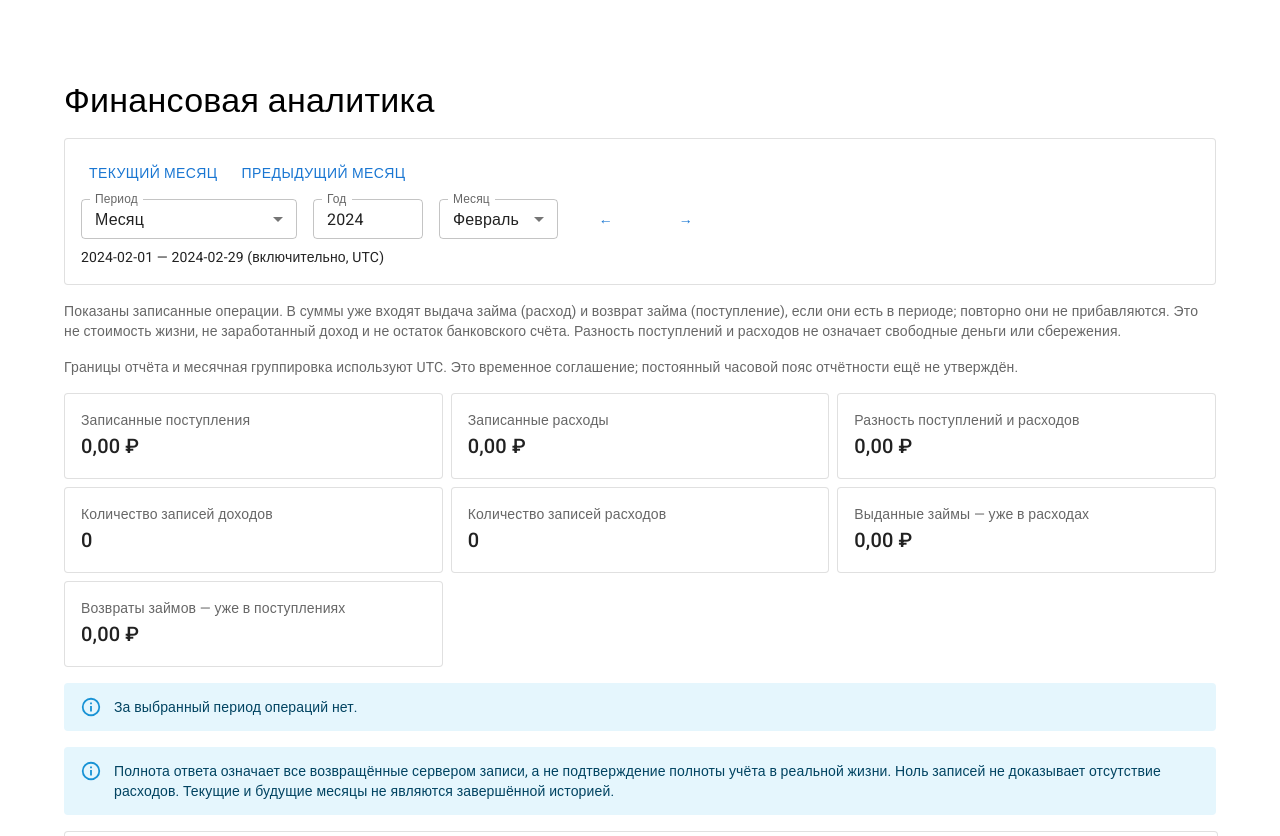
Test: read-only AnalyticsPage with mocked RTK Query transport › handles calendar domain boundaries for quarter without an arbitrary 2020 minimum
The image size is (1280, 836).
Expected: the text "Записанные поступления" is shown, [81,412,250,428]
Select "Январь" in the dropdown labelled "Месяц" at [498, 220], box [439,200,558,240]
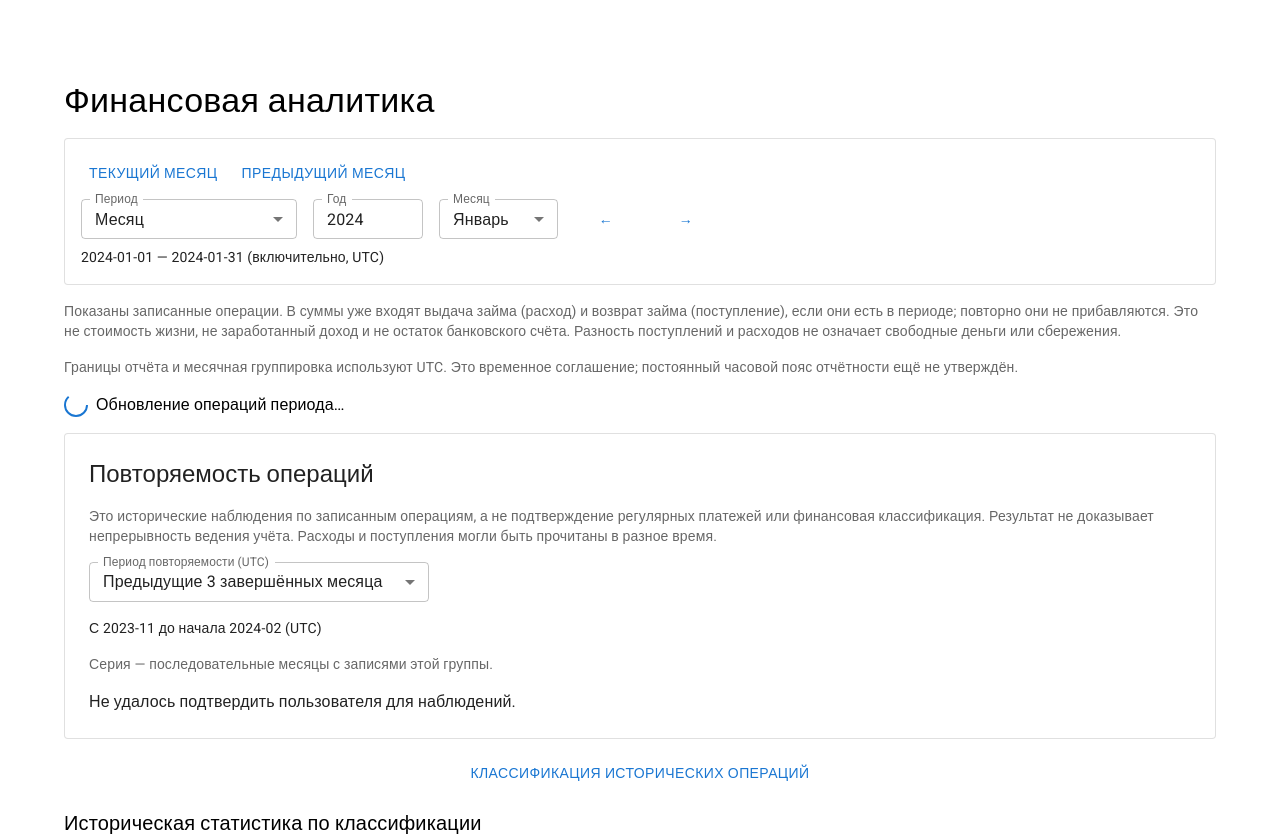
Select "Квартал" in the dropdown labelled "Период" at [189, 220], box [81,200,297,240]
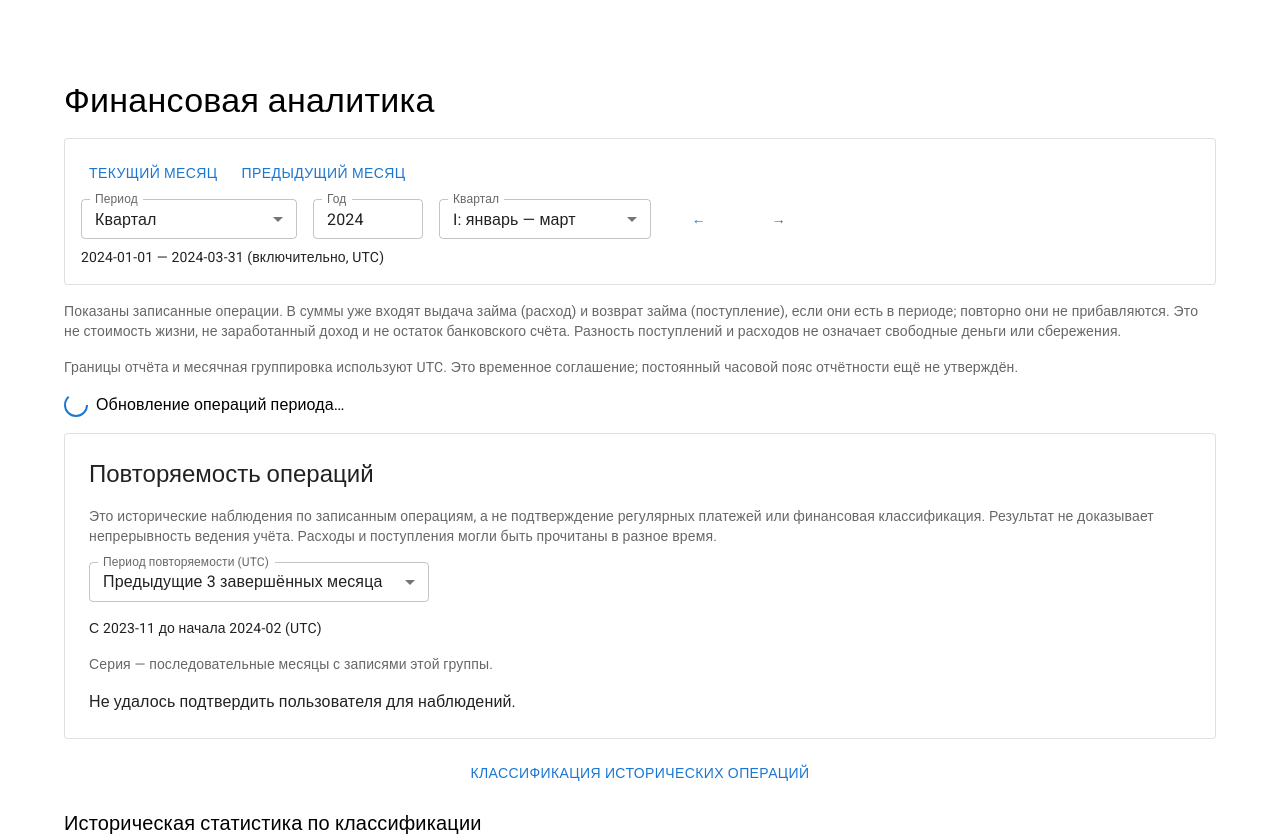
Replace the text in the number field labelled "Год" with "1" at [368, 220], box [313,200,423,240]
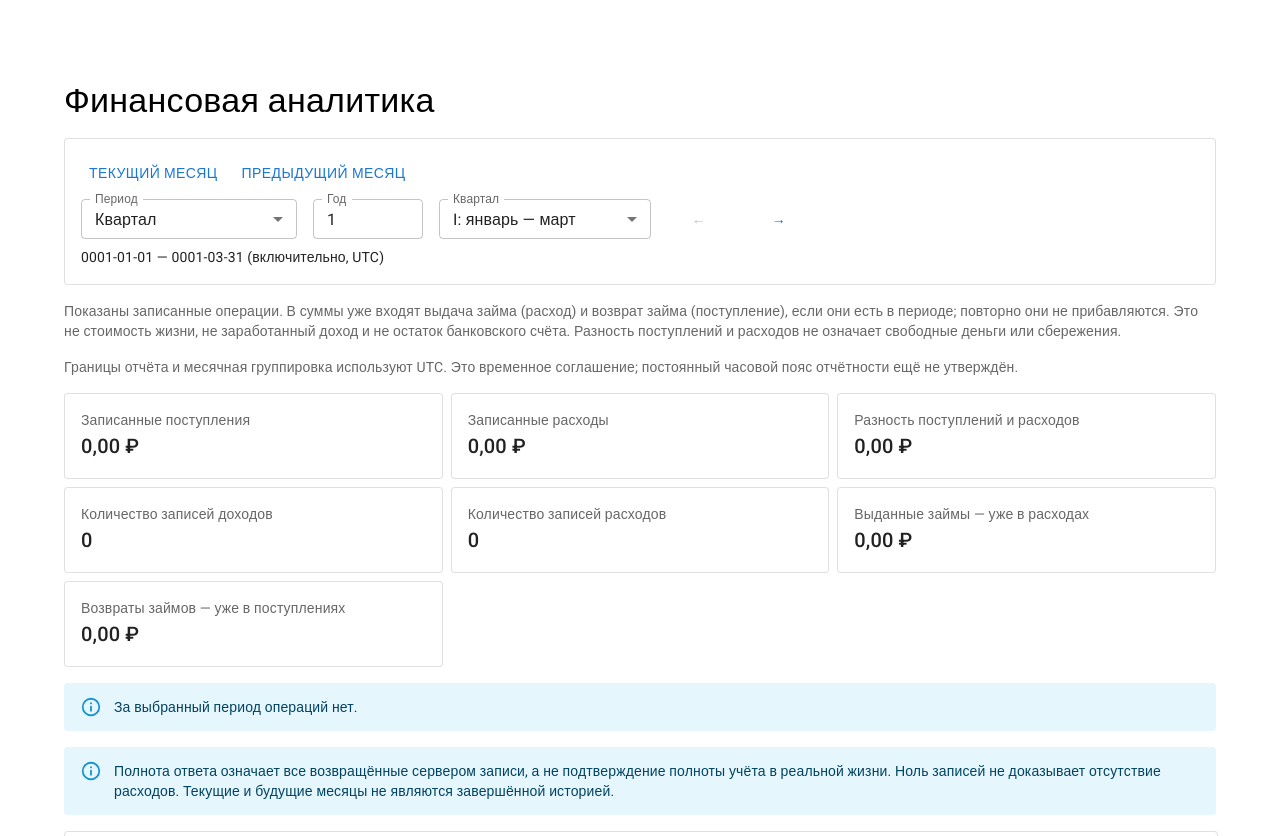
Expected: the button named "Предыдущий календарный период" is disabled, [667,200,731,240]
Now the text "Записанные поступления" is shown, box [81,412,250,428]
Now the text "0001-01-01 — 0001-03-31 (включительно, UTC)" is shown, box [81,250,384,266]
Replace the text in the number field labelled "Год" with "9999" at [368, 220], box [313,200,423,240]
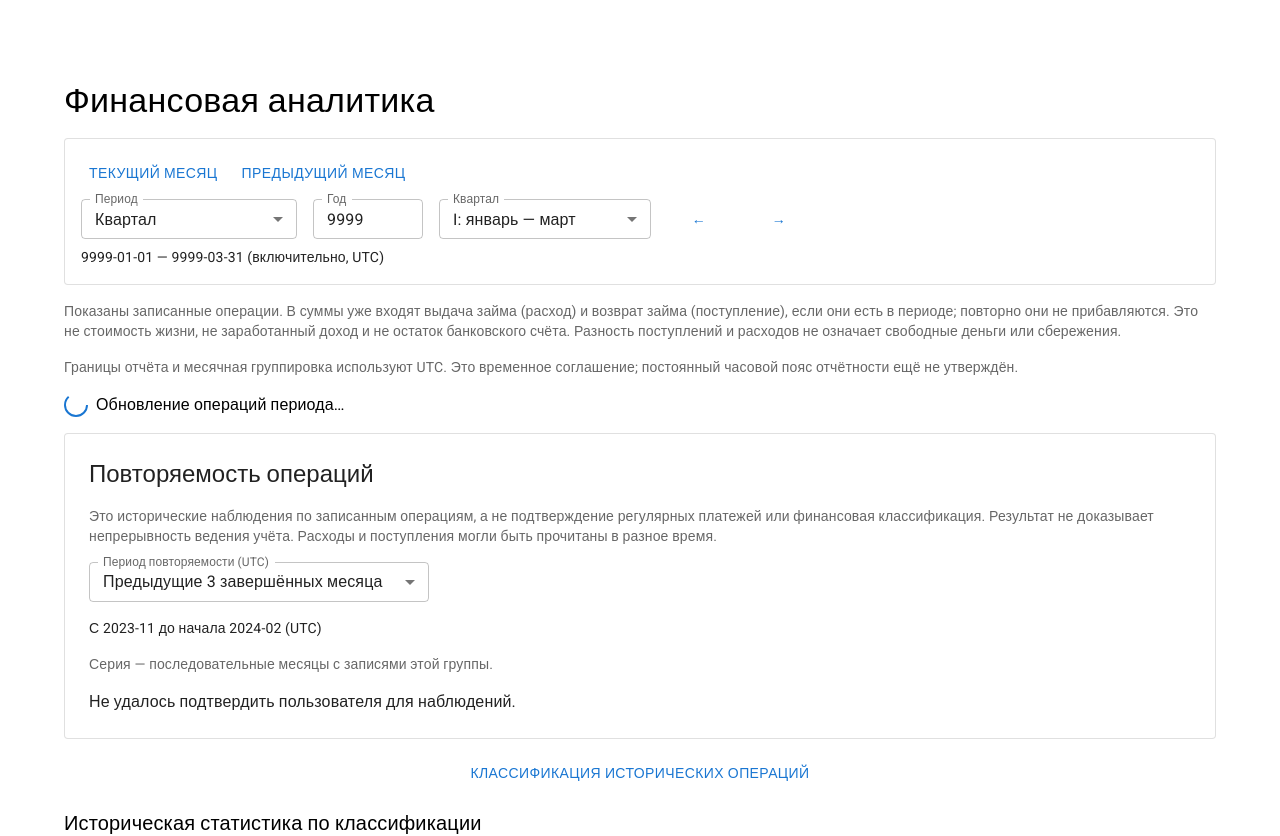
Select "IV: октябрь — декабрь" in the dropdown labelled "Квартал" at [545, 220], box [439,200,651,240]
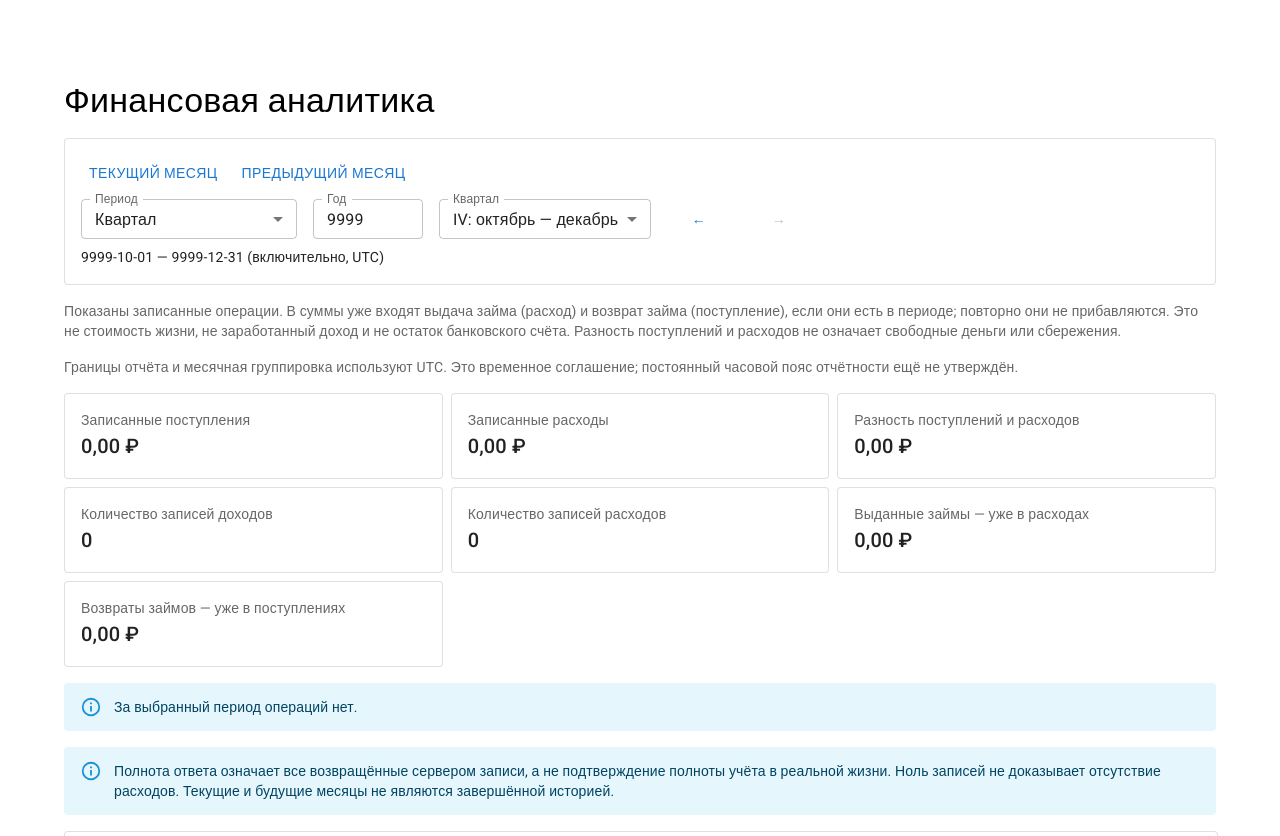
Expected: the button named "Следующий календарный период" is disabled, [747,200,811,240]
Now the text "Записанные поступления" is shown, box [81,412,250,428]
Now the text "9999-10-01 — 9999-12-31 (включительно, UTC)" is shown, box [81,250,384,266]
Replace the text in the number field labelled "Год" with "10000" at [368, 220], box [313,200,423,240]
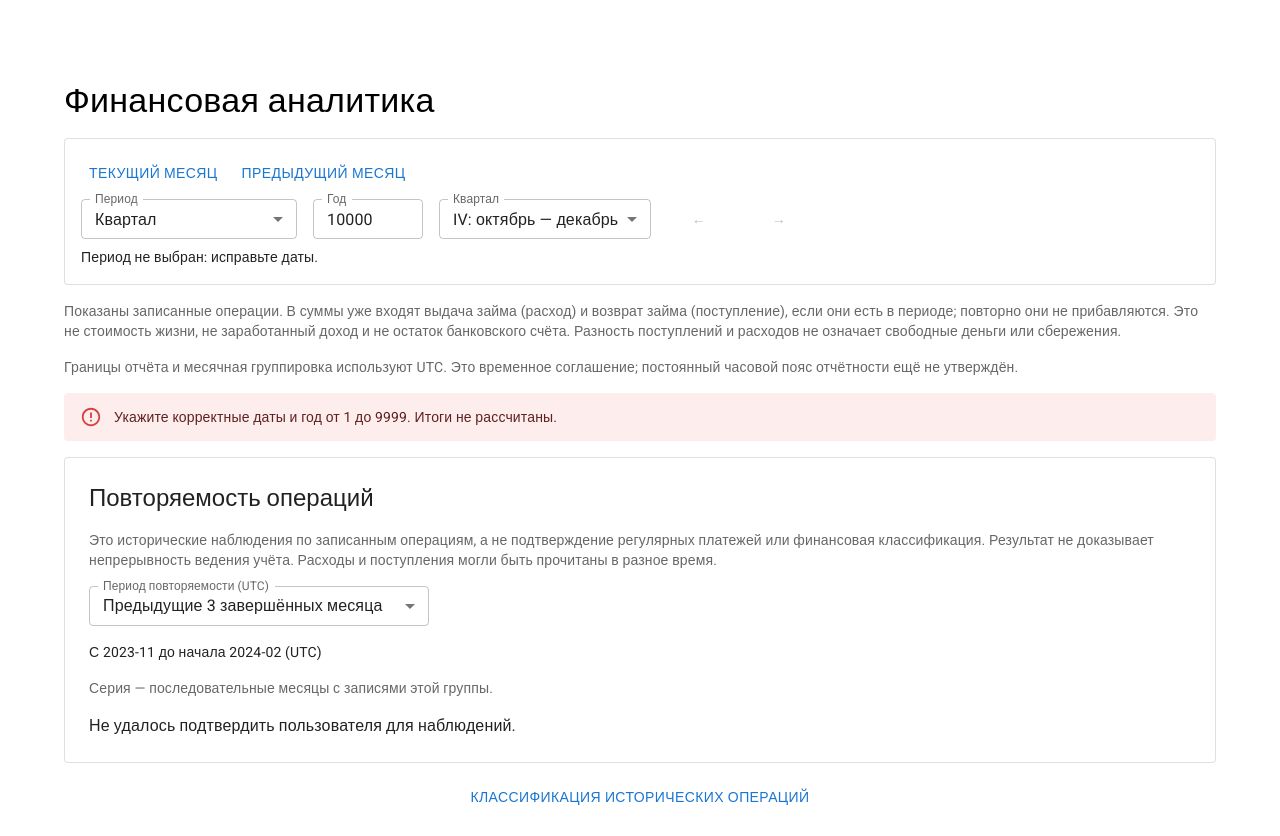
Now the message shows "год от 1 до 9999", box [114,408,411,424]
Now the text "Записанные расходы" is gone
